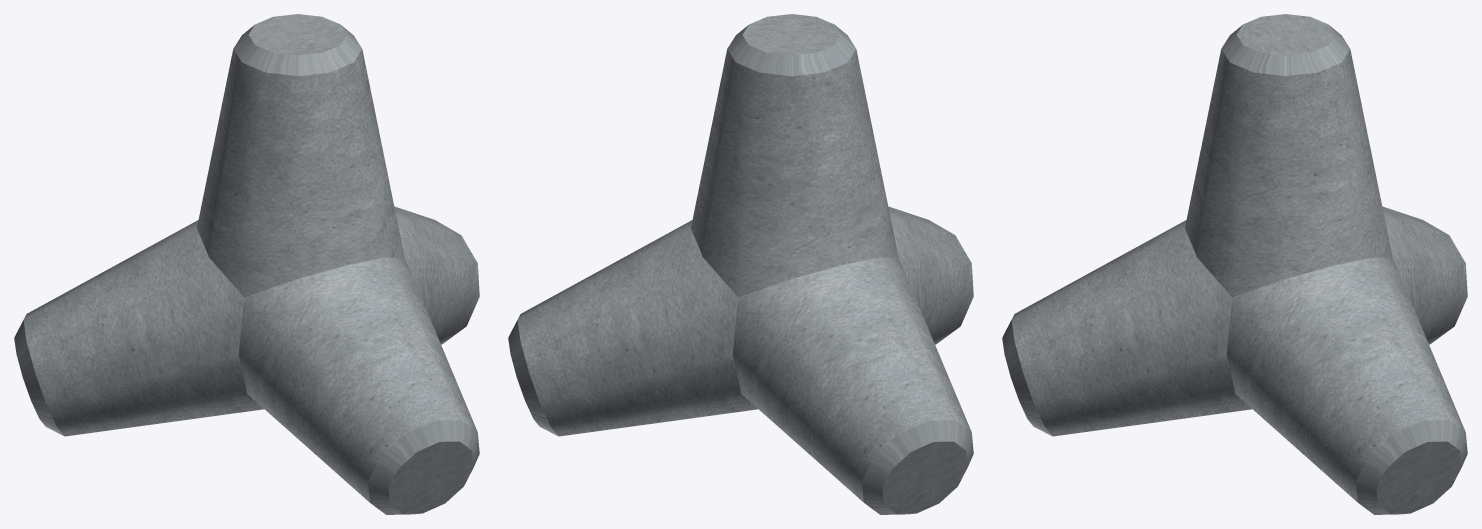
File: normal_tetrapod.obj
The picture shows the model from 3 angles, left to right: view 1: azimuth 30°, elevation 25°; view 2: azimuth 150°, elevation 25°; view 3: azimuth 270°, elevation 25°; orthographic projection.
Parts seen in each view (by area): view 1: Cylinder.001, Cylinder.002, Cylinder.004, Cylinder.003; view 2: Cylinder.001, Cylinder.004, Cylinder.003, Cylinder.002; view 3: Cylinder.001, Cylinder.003, Cylinder.002, Cylinder.004.
Boxes of the visible parts, x1,y1,x2,y2 form: Cylinder.001: [197, 14, 404, 296]; Cylinder.002: [238, 257, 479, 514]; Cylinder.004: [14, 220, 263, 436]; Cylinder.003: [394, 206, 479, 344]; Cylinder.001: [691, 14, 898, 296]; Cylinder.004: [732, 257, 973, 514]; Cylinder.003: [508, 220, 757, 436]; Cylinder.002: [888, 206, 973, 344]; Cylinder.001: [1185, 14, 1392, 296]; Cylinder.003: [1226, 257, 1467, 514]; Cylinder.002: [1002, 220, 1251, 436]; Cylinder.004: [1382, 206, 1467, 344].
Size of the model in its own units: 1.19 by 0.9978 by 1.06.
